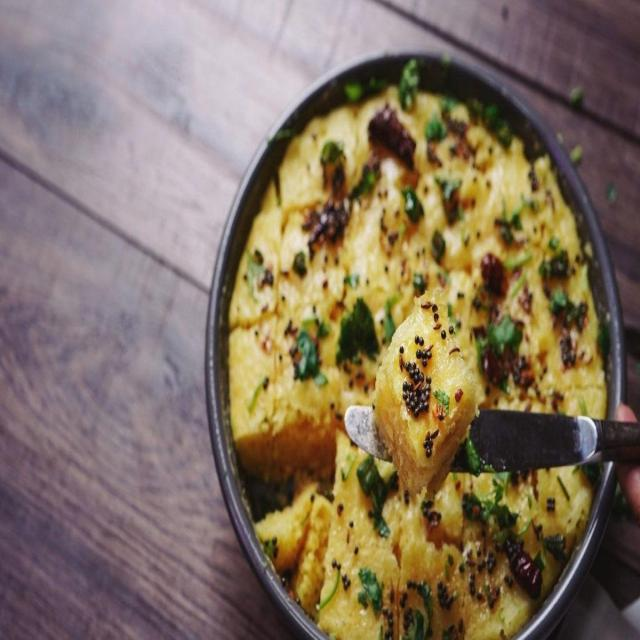dhokla: (239, 88, 595, 626)
